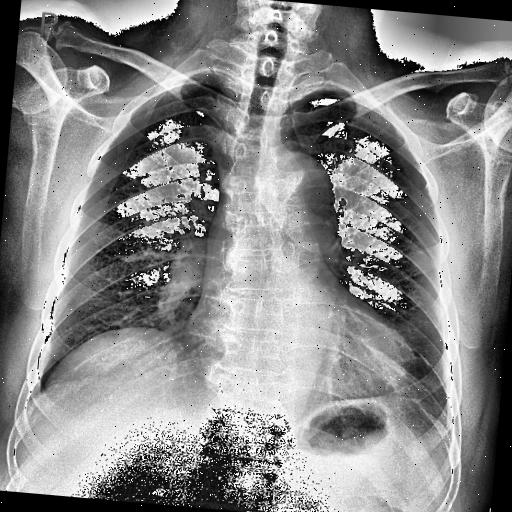0- Aortic enlargement: (250, 150, 348, 242), (260, 151, 342, 238), (256, 150, 338, 223)
3- Cardiomegaly: (183, 290, 418, 406), (178, 312, 426, 406), (179, 313, 420, 389)
